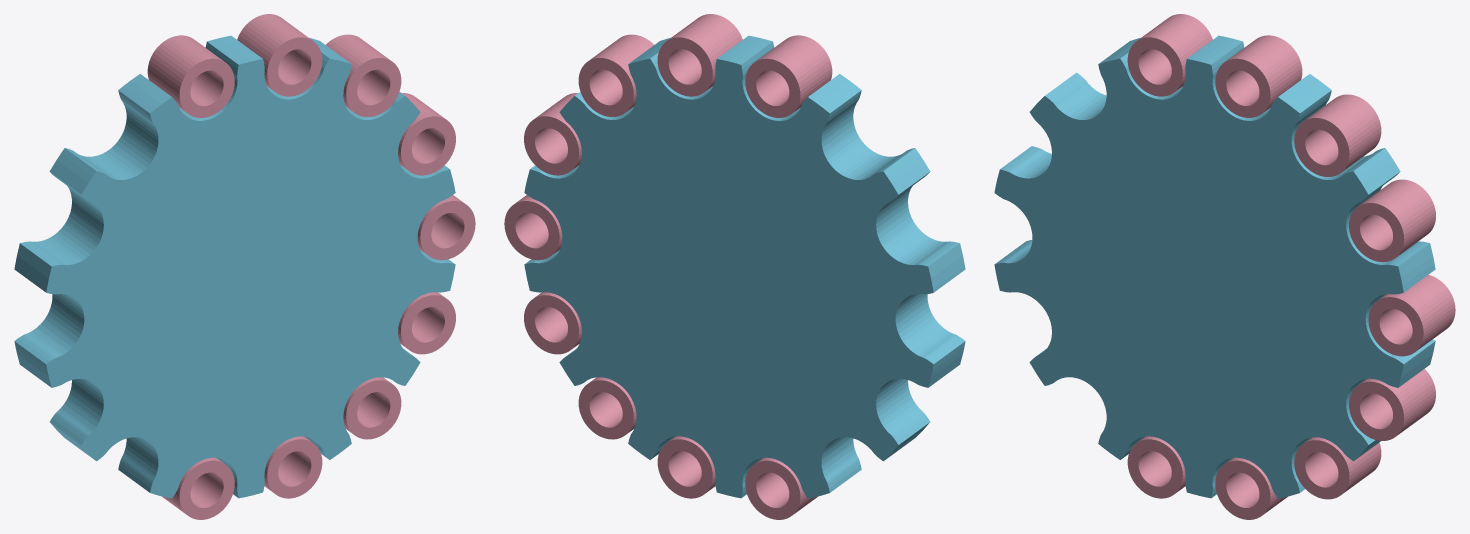
Rendered from roller_chain_demo.glb.
3 views of the same model, side by side, from view 1: azimuth 30°, elevation 25°; view 2: azimuth 150°, elevation 25°; view 3: azimuth 330°, elevation 25° (orthographic).
Parts seen in each view (by area): view 1: sprocket, roller_08, roller_07, roller_06, roller_05, roller_00, roller_04, roller_01, roller_02, roller_03; view 2: sprocket, roller_08, roller_07, roller_06, roller_05, roller_00, roller_04, roller_01, roller_02, roller_03; view 3: sprocket, roller_06, roller_05, roller_07, roller_04, roller_08, roller_03, roller_02, roller_01, roller_00.
Part boxes in pixels (box(x1,y1,x2,y2)): sprocket: box(14, 35, 455, 498); roller_08: box(147, 35, 234, 117); roller_07: box(237, 14, 322, 96); roller_06: box(326, 34, 401, 116); roller_05: box(398, 93, 455, 175); roller_00: box(162, 457, 234, 519); roller_04: box(417, 195, 475, 260); roller_01: box(264, 436, 322, 498); roller_02: box(343, 377, 401, 439); roller_03: box(398, 292, 455, 354); sprocket: box(524, 35, 965, 498); roller_08: box(745, 35, 832, 117); roller_07: box(657, 14, 742, 96); roller_06: box(578, 34, 653, 116); roller_05: box(524, 93, 581, 175); roller_00: box(745, 457, 817, 519); roller_04: box(504, 195, 562, 260); roller_01: box(657, 436, 715, 498); roller_02: box(578, 377, 636, 439); roller_03: box(524, 292, 581, 354); sprocket: box(994, 35, 1435, 498); roller_06: box(1294, 94, 1381, 176); roller_05: box(1349, 179, 1435, 262); roller_07: box(1215, 35, 1302, 117); roller_04: box(1368, 274, 1455, 356); roller_08: box(1127, 14, 1212, 96); roller_03: box(1349, 369, 1435, 440); roller_02: box(1294, 437, 1381, 499); roller_01: box(1215, 457, 1287, 519); roller_00: box(1127, 436, 1185, 498).
Bounding box in the file's own units: 46.64 × 47.73 × 6.
